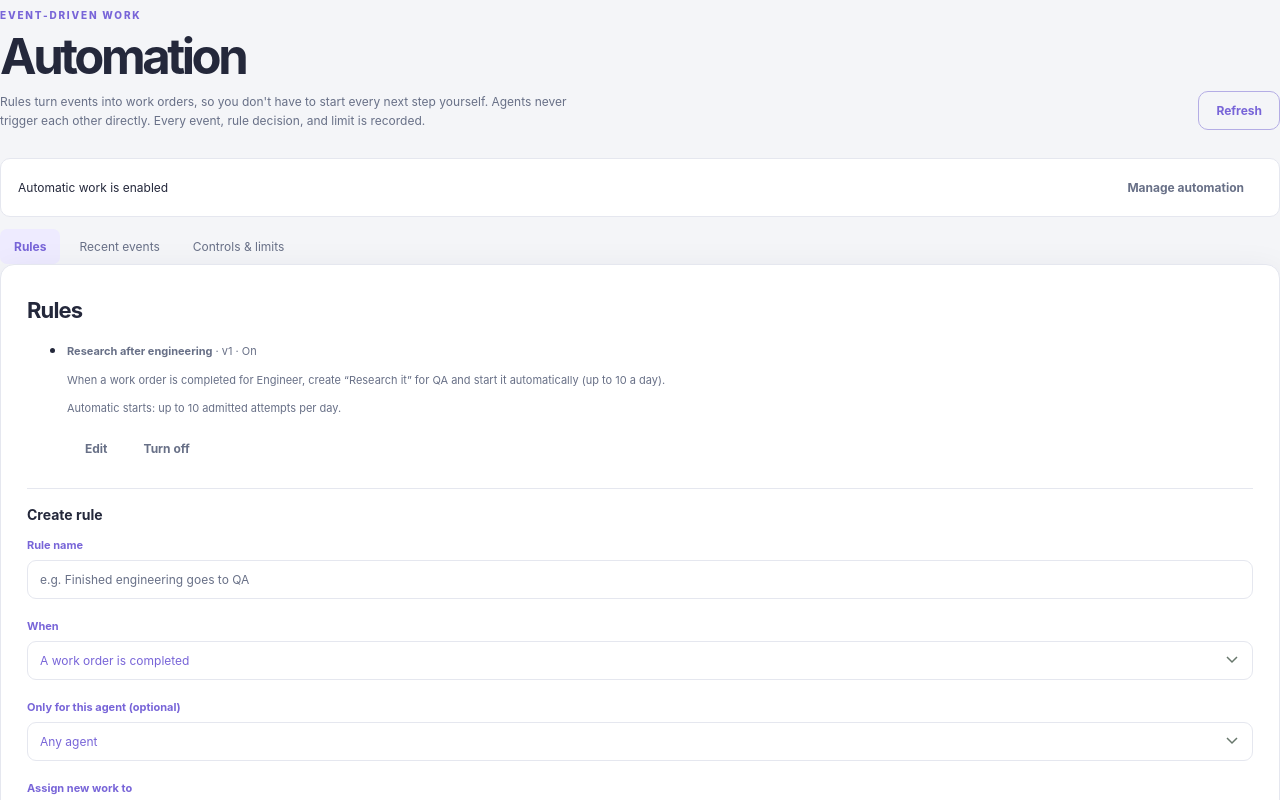
Scenario: describes automatic starts and their outcomes in Auto mode
The image size is (1280, 800).
Expected: the text "create “Research it” for QA and start it automatically" is shown, [67,373,665,387]
Click the button "Controls & limits" at (239, 247), box [179,229,298,264]
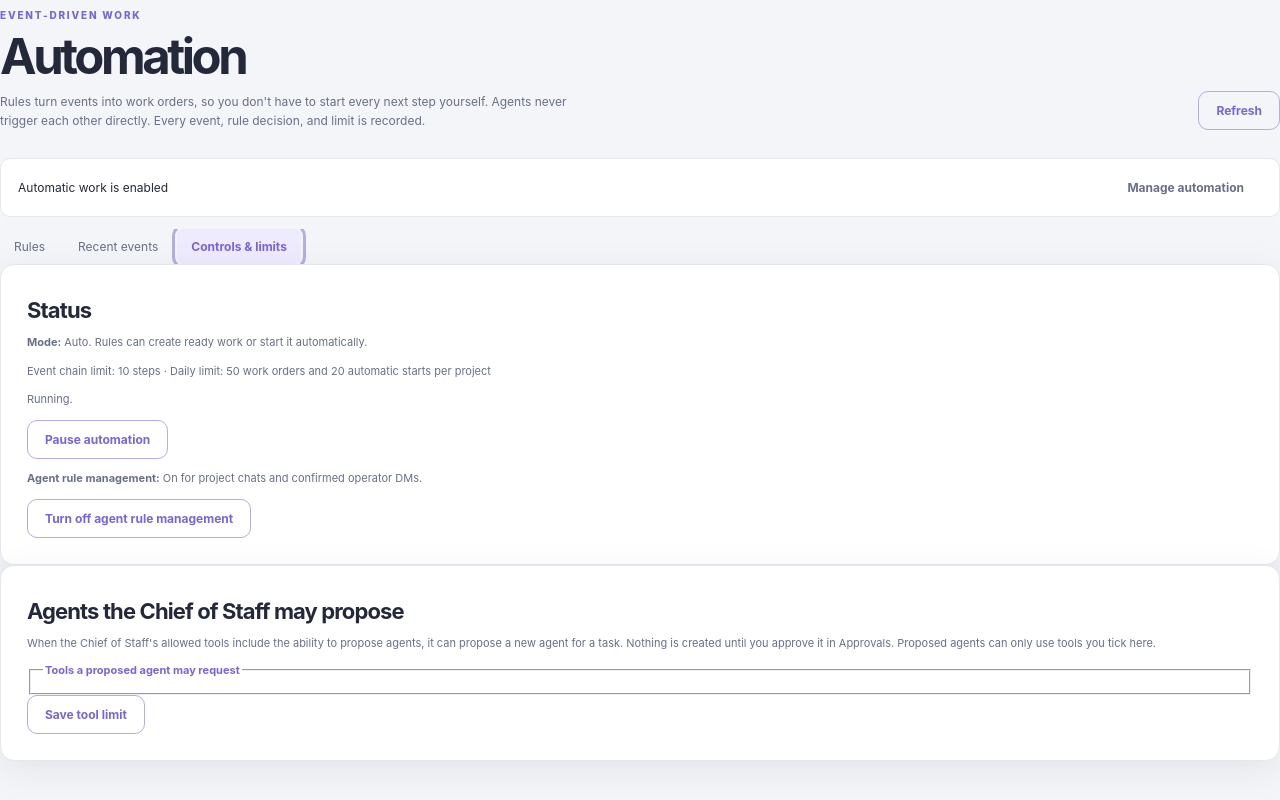
Now the text "20 automatic starts per project" is shown, box [27,364,491,378]
Click the button "Recent events" at (118, 247), box [64,229,172,264]
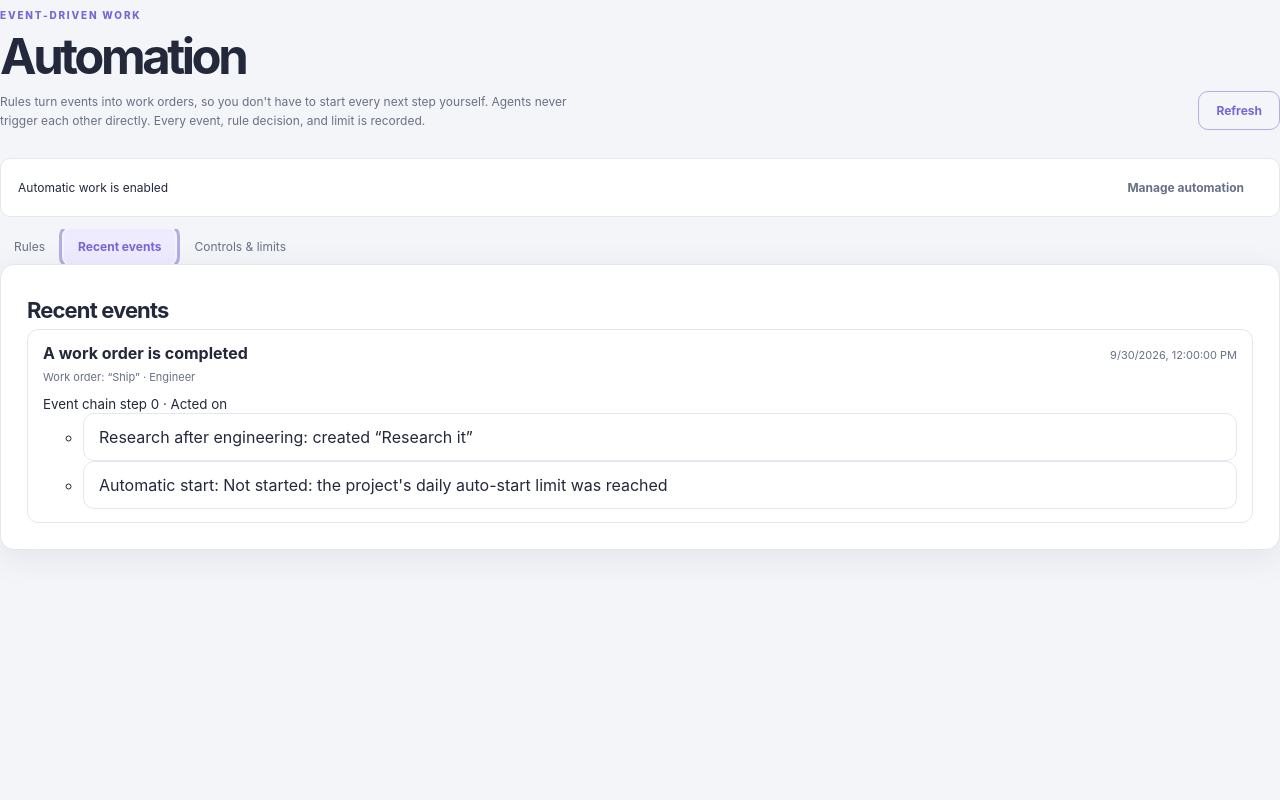
Now the list item "Automatic start: Not started: the project's daily auto-start limit was reached" is shown, box [83,461,1237,509]
